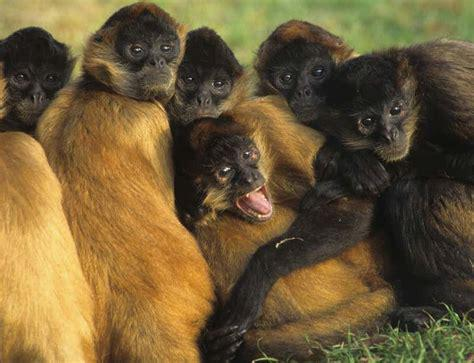monkey: (38, 4, 211, 363), (204, 21, 376, 363), (185, 98, 391, 356), (302, 40, 474, 330), (166, 28, 244, 133), (1, 29, 76, 133)
